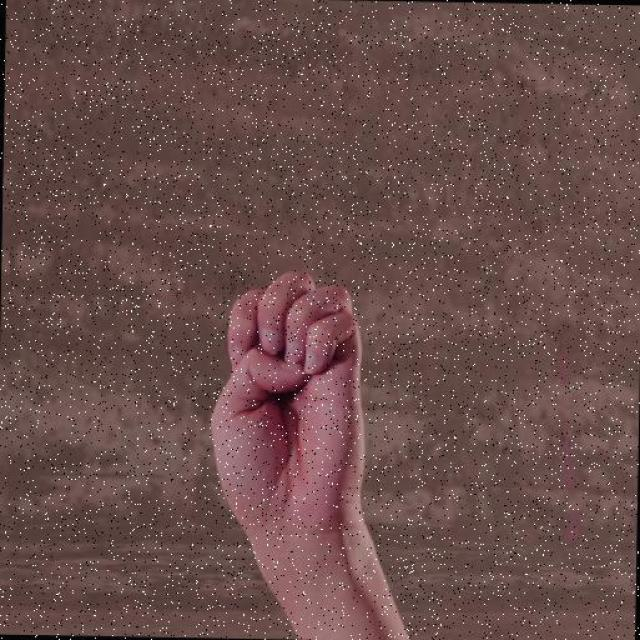E: (202, 265, 372, 553)
